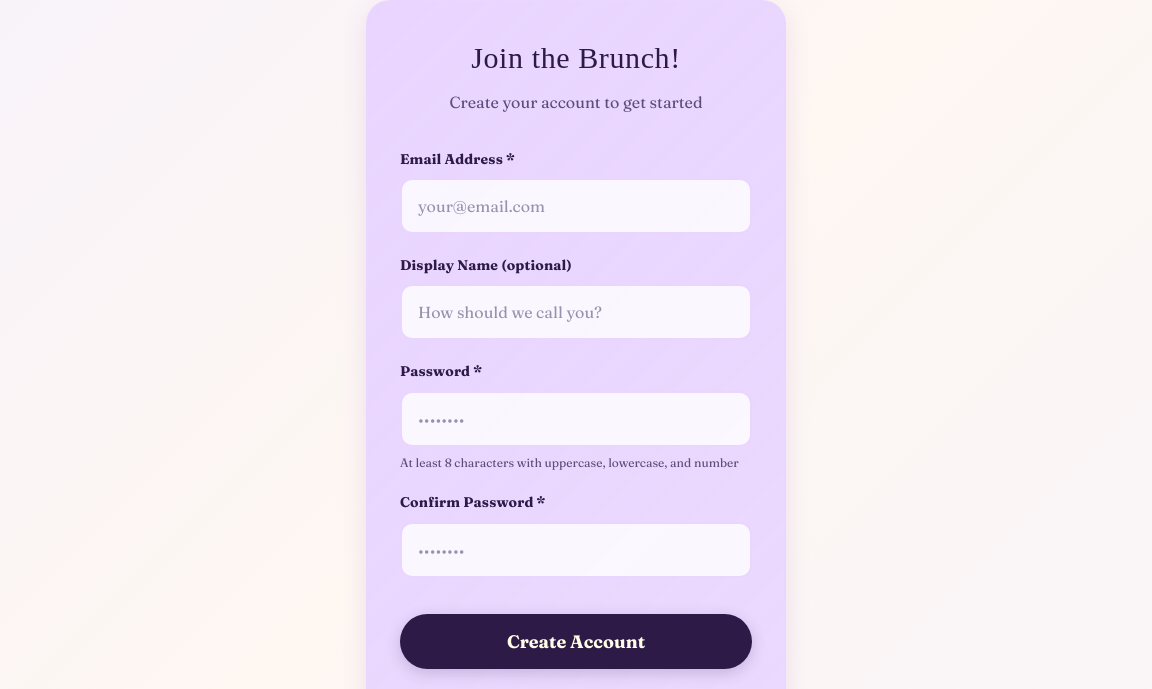
SignUpForm › Password Validation › should show error for password shorter than 8 characters
This screenshot has width=1152, height=689.
Type "test@example.com" into the field labelled "Email Address *".
click(576, 206); type("test@example.com")  # box [400,178,752,234]
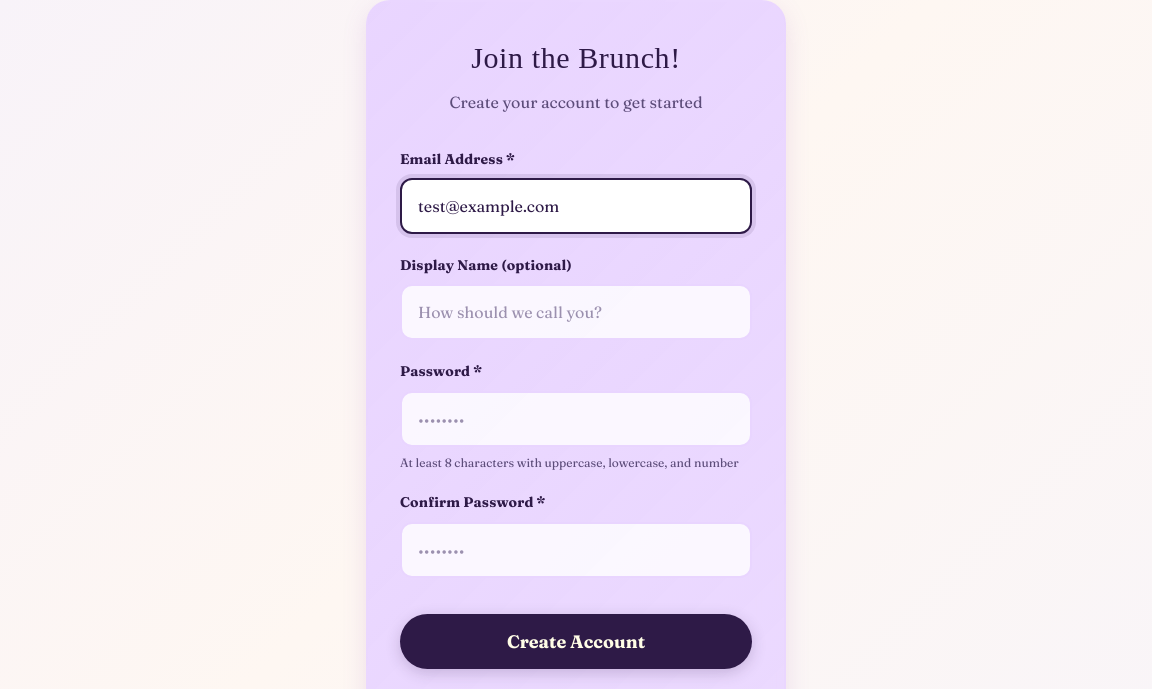
Type "Pass1" into the password field labelled "Password *".
click(576, 419); type("Pass1")  # box [400,391,752,447]
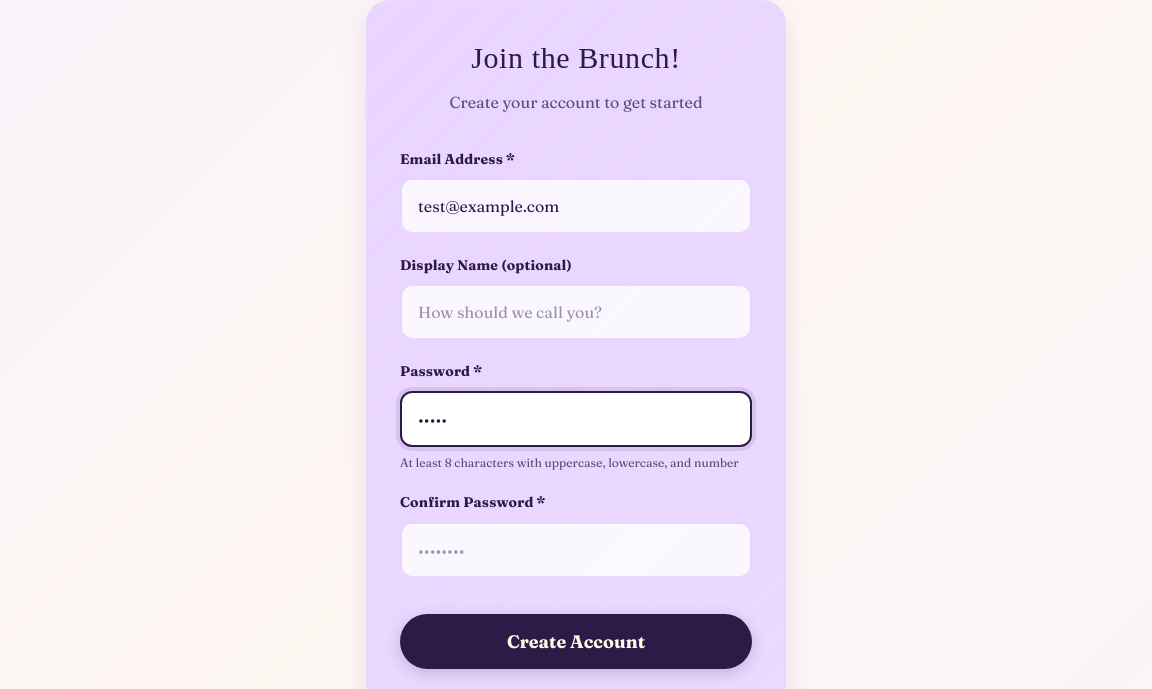
Type "Pass1" into the password field labelled "Confirm Password *".
click(576, 550); type("Pass1")  # box [400,522,752,578]
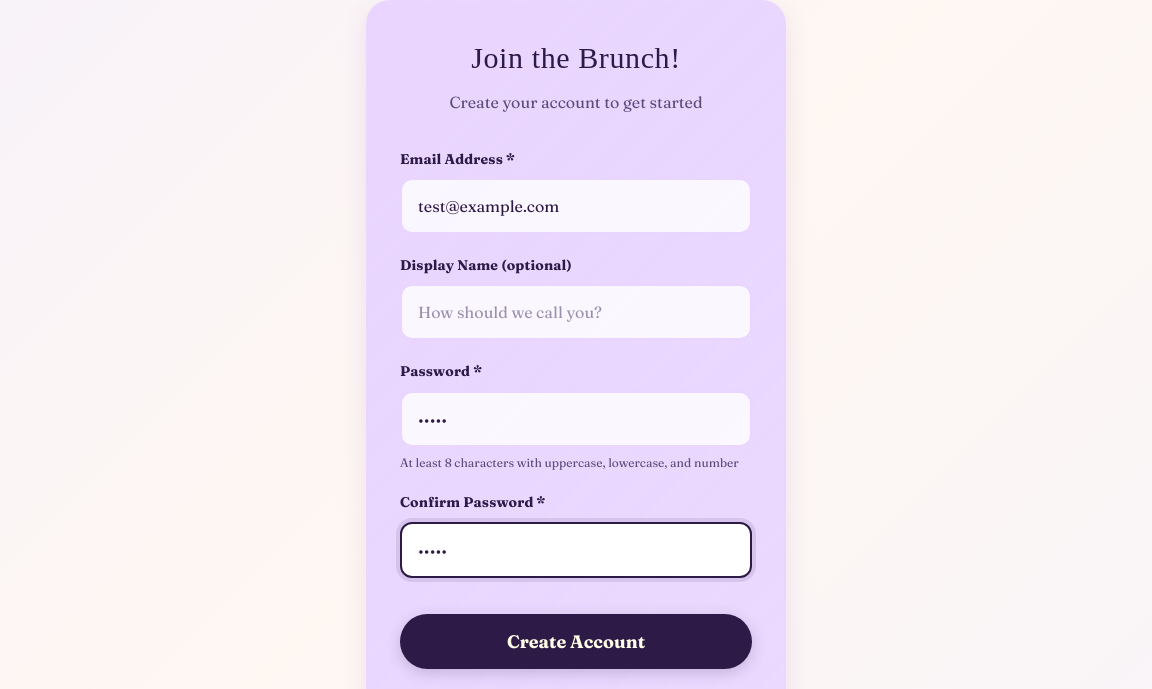
Click the button "Create Account".
click(576, 641)  # box [400,614,752,669]
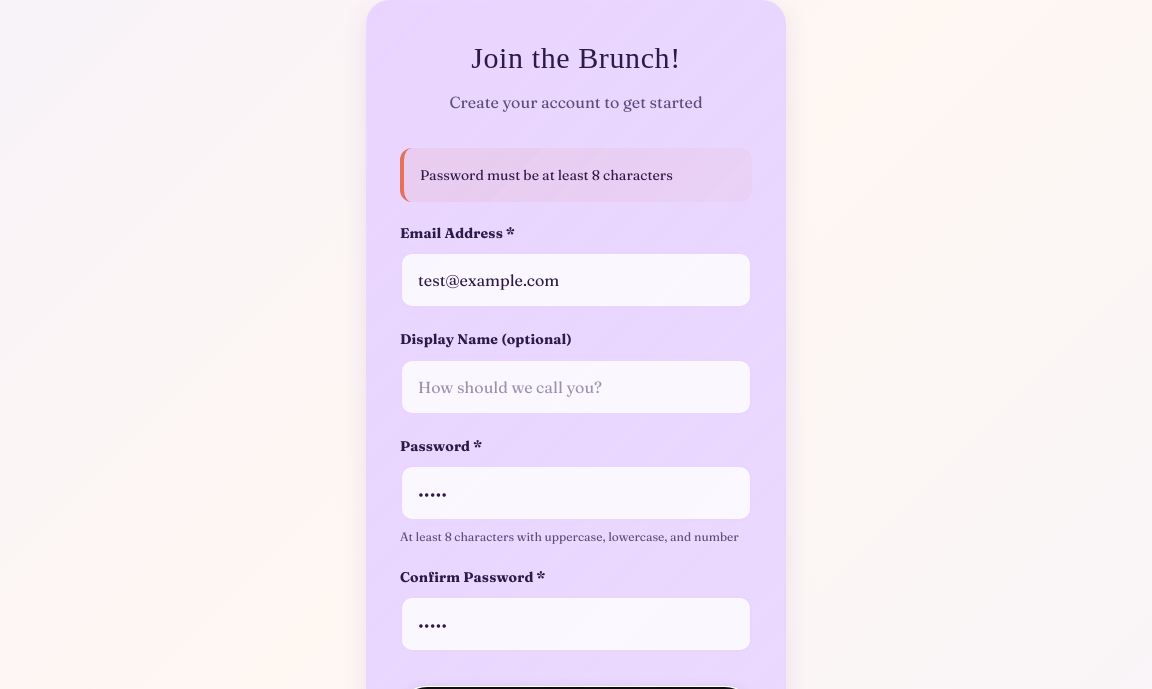
Result: the text "Password must be at least 8 characters" is shown at [400,148,752,202]
